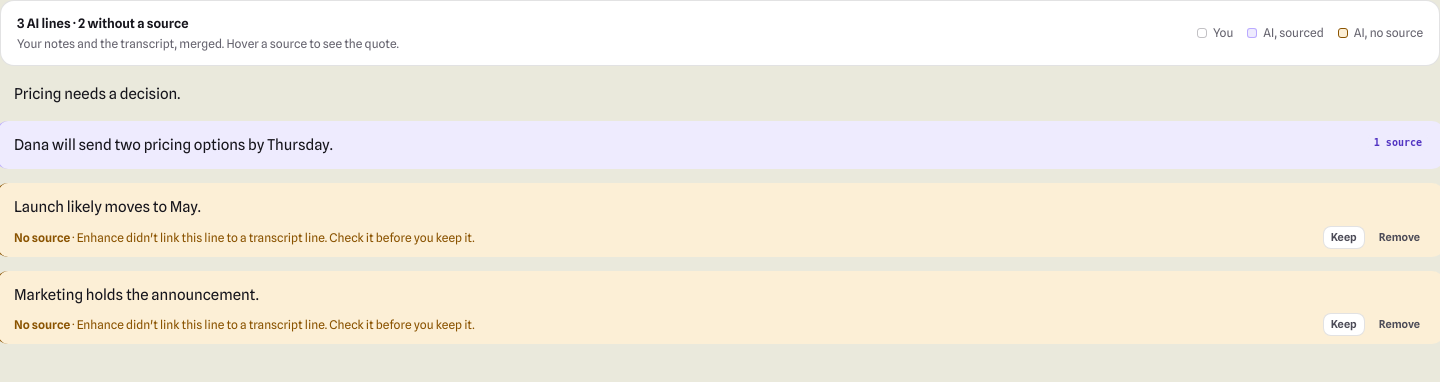
Test: Remove with undo › Undo brings the line back and never deletes it
The width and height of the screenshot is (1440, 382).
Click the 1st button "Remove". click: (1399, 237)
box: [1371,226,1428,248]
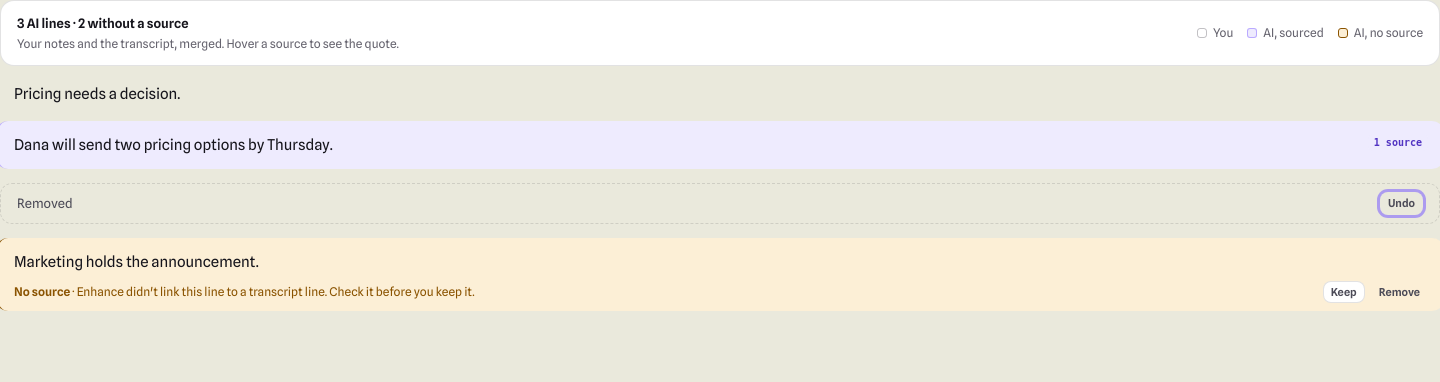
Click the button "Undo". click: (1402, 204)
box: [1380,192,1423,215]
Wait 10000 ms
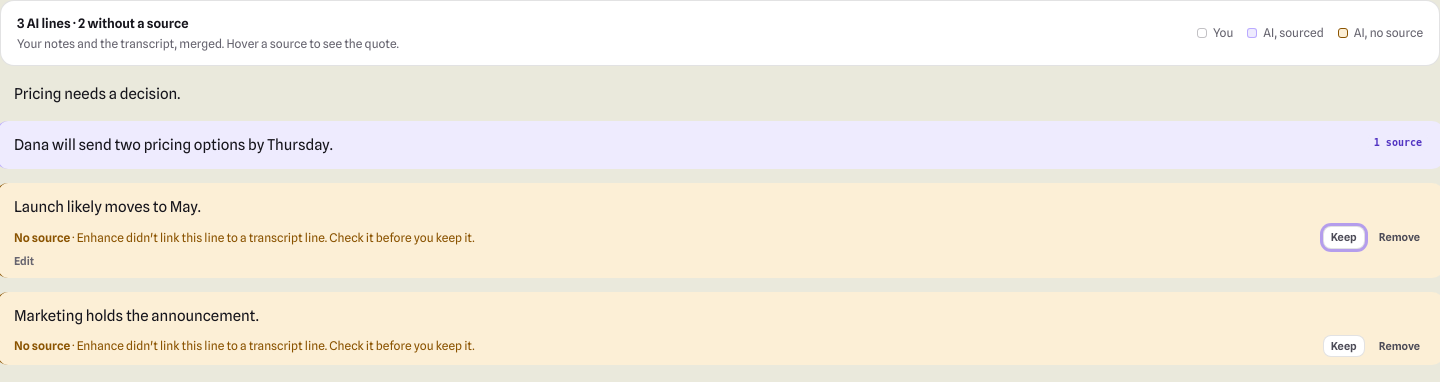
Now the text "Launch likely moves to May." is shown, box [14,198,201,216]
